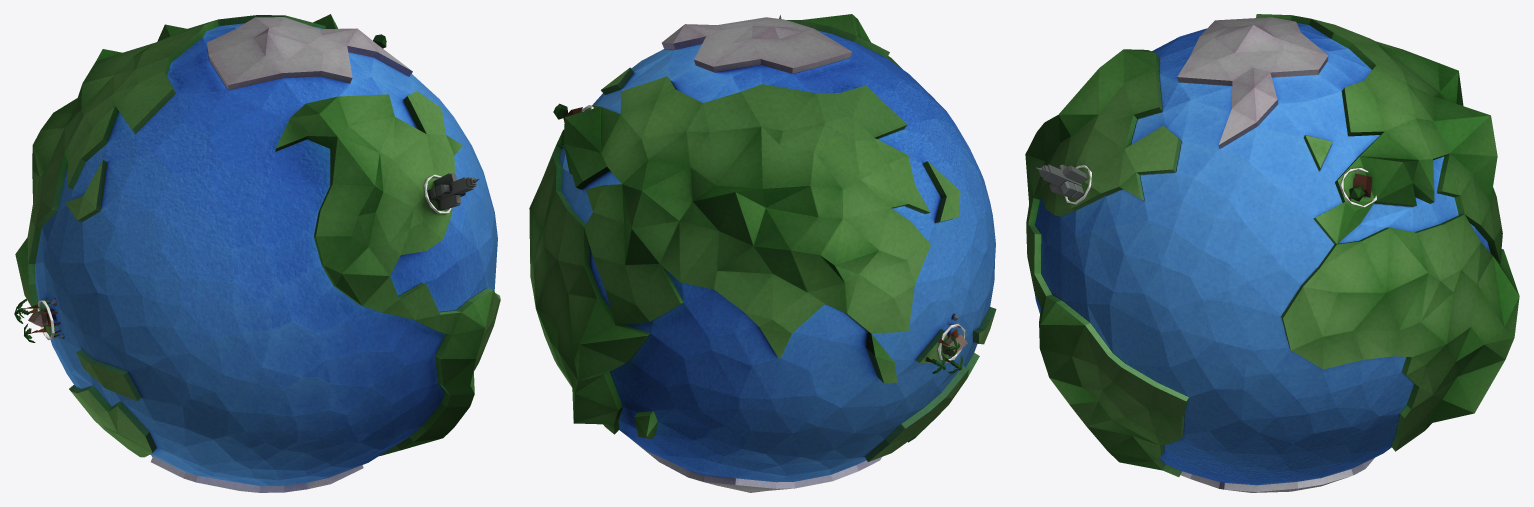
3 renders of one model, left to right at view 1: azimuth 30°, elevation 25°; view 2: azimuth 150°, elevation 25°; view 3: azimuth 270°, elevation 25°, orthographic.
Visible parts, largest first — view 1: earth_0; view 2: earth_0; view 3: earth_0.
Part boxes in pixels (x1,y1,x2,y2): earth_0: [14, 14, 500, 492]; earth_0: [529, 14, 996, 492]; earth_0: [1025, 14, 1519, 492].
Bounding box in the file's own units: 1.27 × 1.31 × 1.27.
6 materials, 5 textured.
